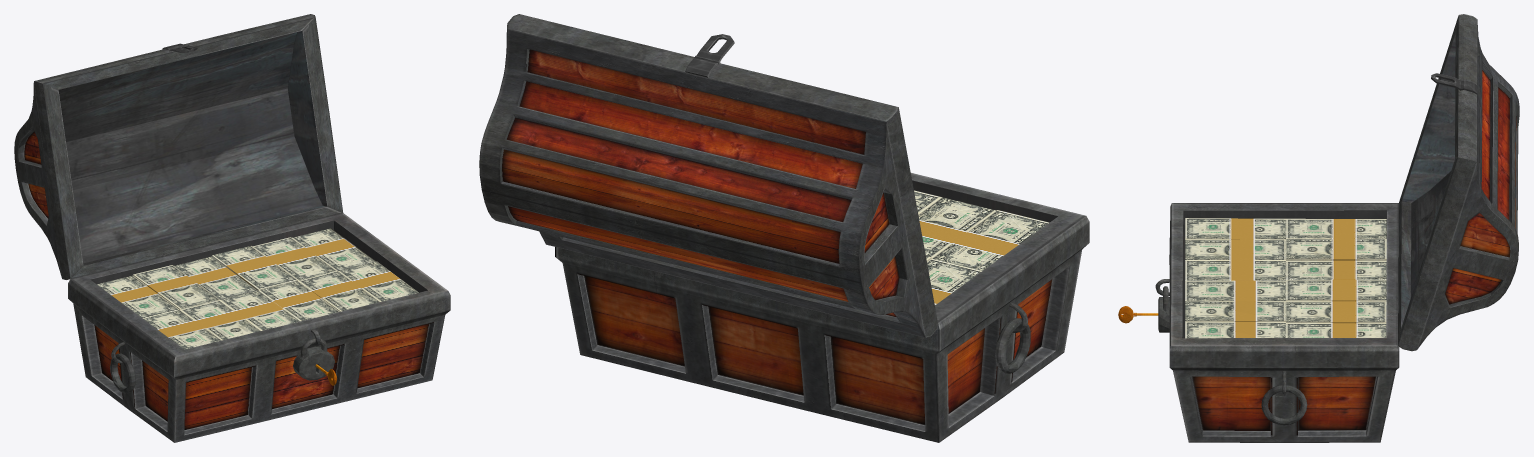
Rendered from Chest gold money.FBX.
3 views of the same model, side by side, from view 1: azimuth 30°, elevation 25°; view 2: azimuth 150°, elevation 25°; view 3: azimuth 270°, elevation 25° (orthographic). The views are drawn at different scales.
Parts seen in each view (by area): view 1: chest gold money; view 2: chest gold money; view 3: chest gold money.
Boxes of the visible parts, box(x1,y1,x2,y2) form: chest gold money: box(14, 14, 450, 442); chest gold money: box(479, 14, 1089, 442); chest gold money: box(1118, 14, 1519, 442).
Bounding box in the file's own units: 186 × 167 × 204.
4 materials, 4 textured.
